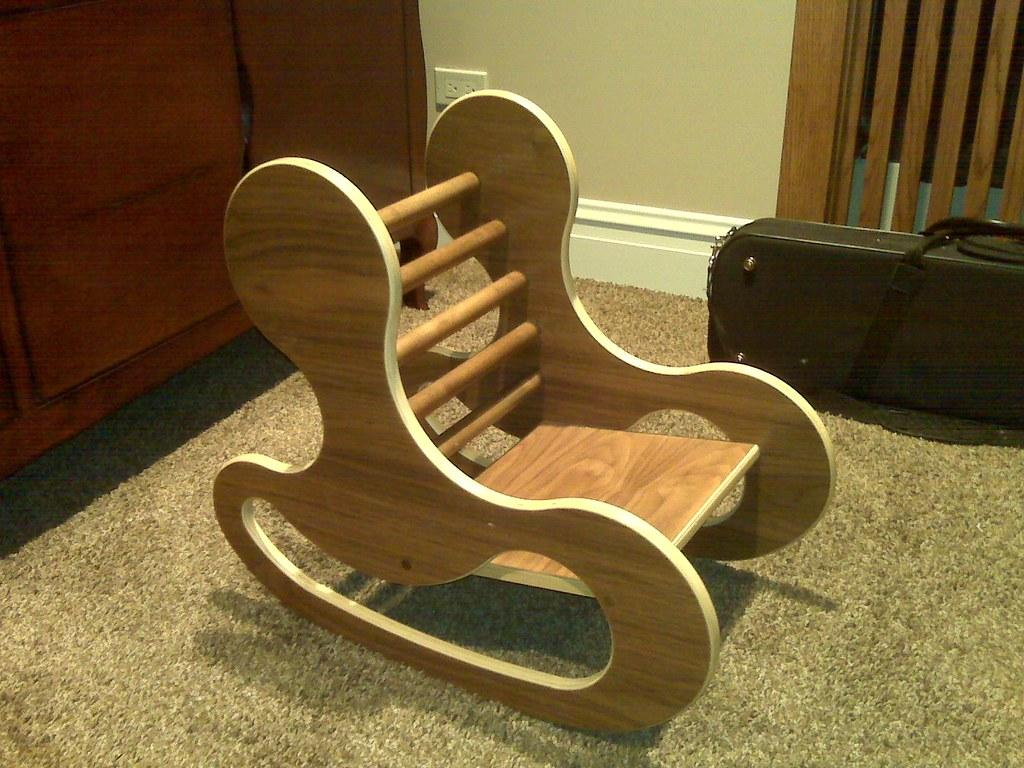chair: (213, 154, 760, 736)
